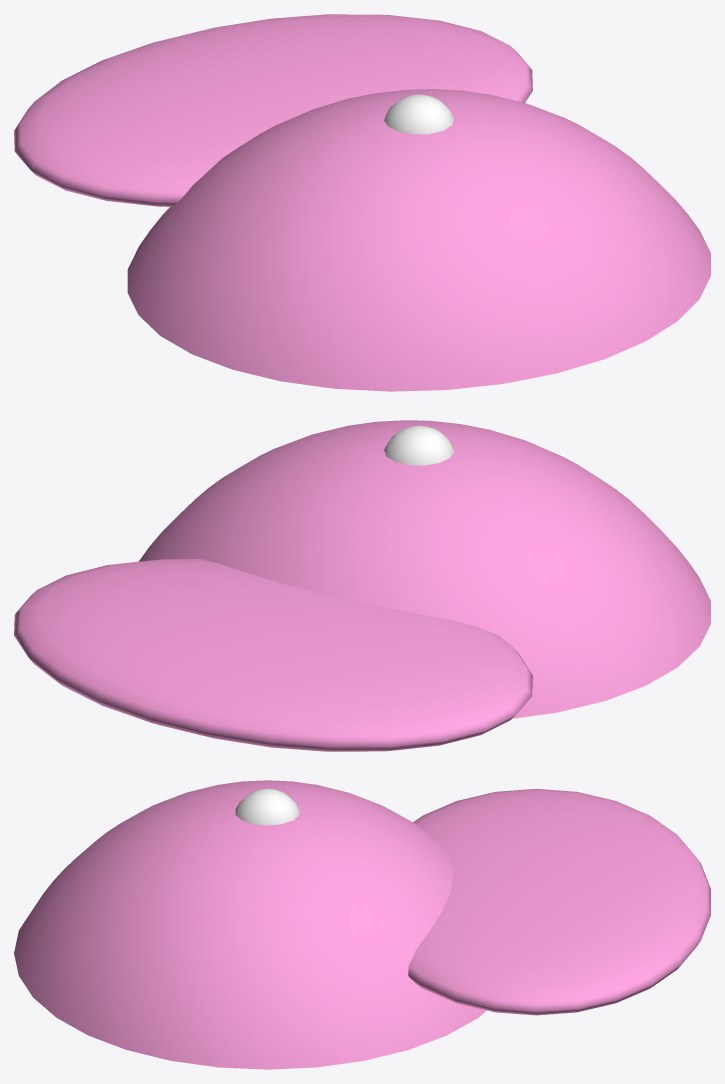
The model's file is acessorio-bone.glb.
3 renders of one model, top to bottom at view 1: azimuth 30°, elevation 25°; view 2: azimuth 150°, elevation 25°; view 3: azimuth 270°, elevation 25°, orthographic. The views are drawn at different scales.
Visible parts, largest first — view 1: Casco, Aba, Botao; view 2: Casco, Aba, Botao; view 3: Casco, Aba, Botao.
Part boxes in pixels (x1=…): Casco: x1=127, y1=89, x2=710, y2=391; Aba: x1=14, y1=14, x2=532, y2=206; Botao: x1=384, y1=94, x2=454, y2=134; Casco: x1=139, y1=420, x2=710, y2=718; Aba: x1=14, y1=559, x2=532, y2=751; Botao: x1=384, y1=425, x2=454, y2=465; Casco: x1=14, y1=780, x2=486, y2=1069; Aba: x1=408, y1=788, x2=710, y2=1015; Botao: x1=235, y1=788, x2=299, y2=825.
Size of the model in its own units: 1.09 by 0.3511 by 1.37.
